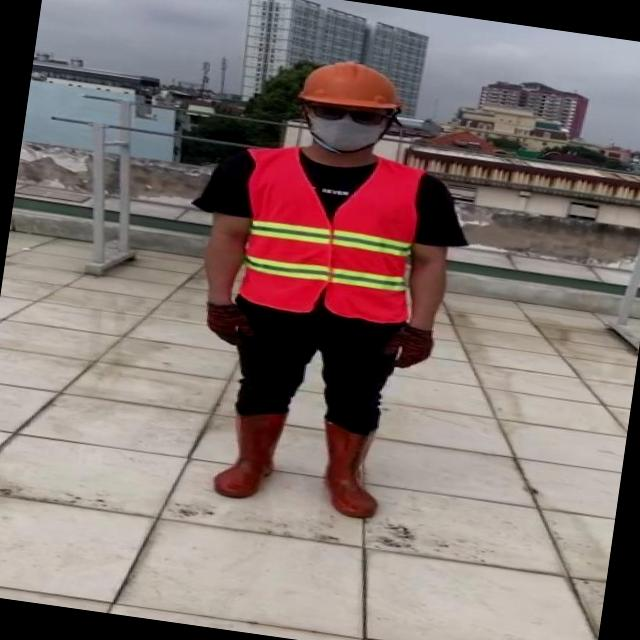boots: (310, 416, 390, 520), (214, 404, 284, 503)
helmet: (292, 51, 410, 116)
vest: (229, 141, 428, 326)
